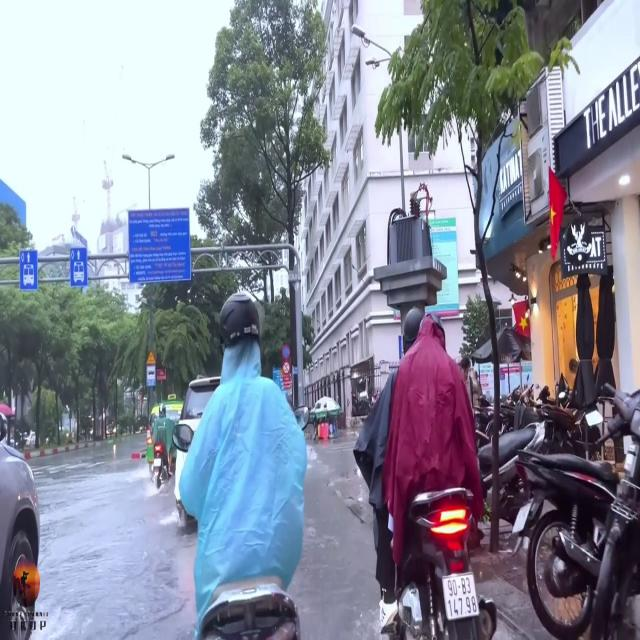bien_trang: (441, 572, 481, 625)
